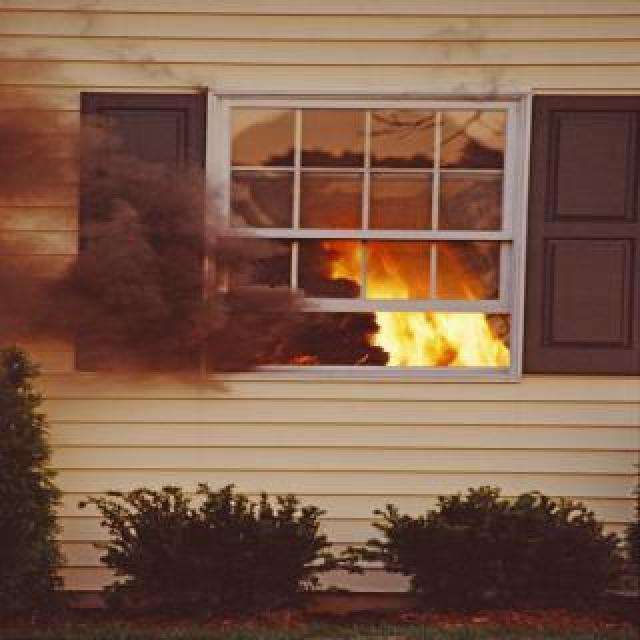Fire: (342, 218, 504, 380)
Smoke: (2, 232, 188, 398), (190, 230, 338, 396), (2, 138, 218, 234), (2, 32, 112, 138)
